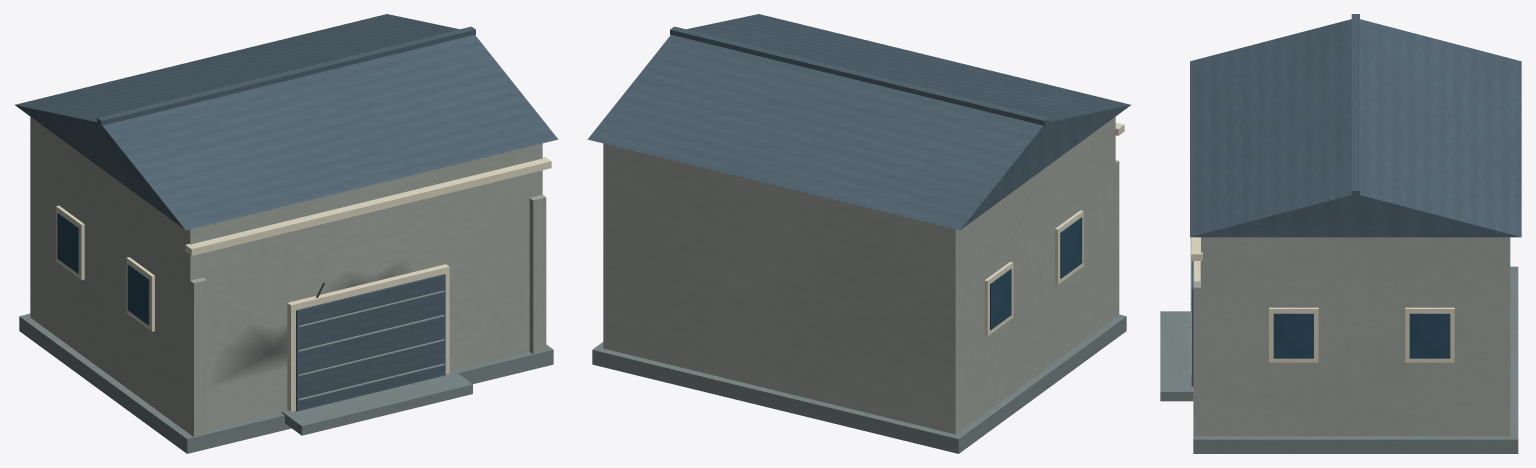
The model's file is warehouse-scorched-lod.glb.
3 renders of one model, left to right at view 1: azimuth 30°, elevation 25°; view 2: azimuth 150°, elevation 25°; view 3: azimuth 270°, elevation 25°, orthographic. The views are drawn at different scales.
Visible parts, largest first — view 1: warehouse-scorched-lod; view 2: warehouse-scorched-lod; view 3: warehouse-scorched-lod.
Part boxes in pixels (x1,y1,x2,y2): warehouse-scorched-lod: (15, 14, 558, 453); warehouse-scorched-lod: (587, 14, 1130, 453); warehouse-scorched-lod: (1160, 14, 1521, 453).
Bounding box in the file's own units: 7.44 × 5.2 × 6.43.
Materials: 3 (3 with a texture image).
